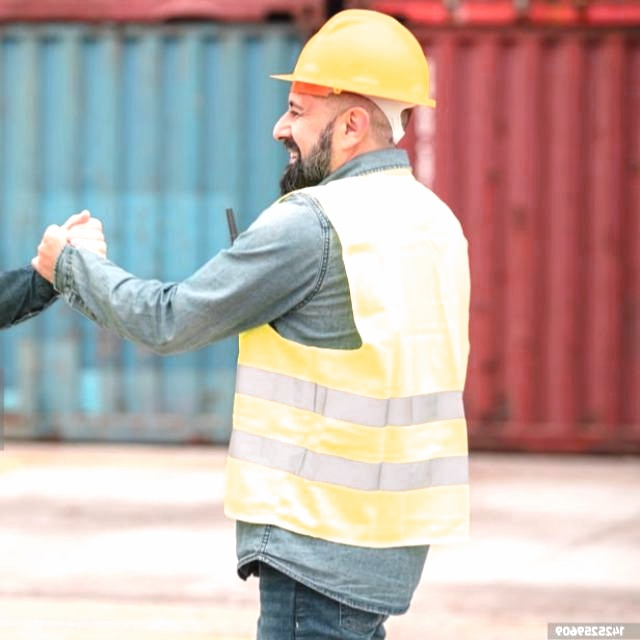Con_Casco: (271, 6, 442, 187)
Con_Chaleco: (223, 173, 474, 538)
